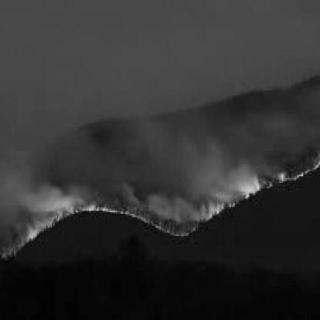Fire: (204, 161, 290, 225), (24, 176, 86, 244)
